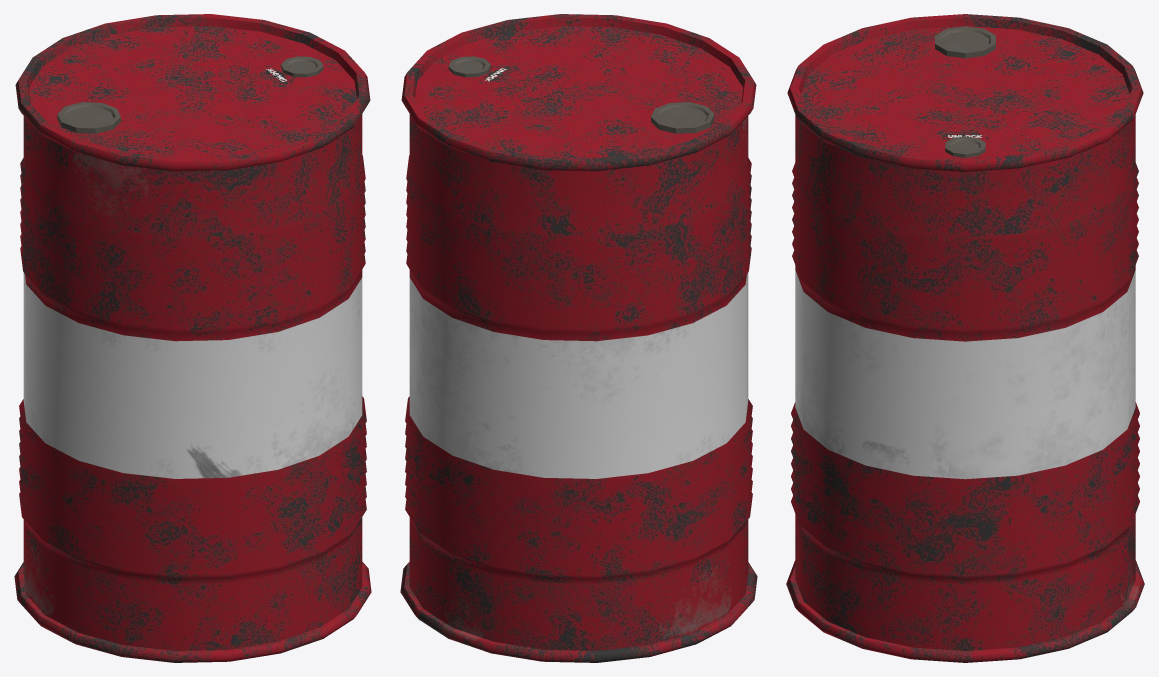
3 views of the same model, side by side, from view 1: azimuth 30°, elevation 25°; view 2: azimuth 150°, elevation 25°; view 3: azimuth 270°, elevation 25° (orthographic).
Parts seen in each view (by area): view 1: Barril.014; view 2: Barril.014; view 3: Barril.014.
Part boxes in pixels (left/top/right/bottom): Barril.014: left=14, top=14, right=371, bottom=662; Barril.014: left=400, top=14, right=757, bottom=662; Barril.014: left=786, top=14, right=1144, bottom=662.
Bounding box in the file's own units: 2.11 × 3.25 × 2.11.
Materials: 3 (3 with a texture image).
